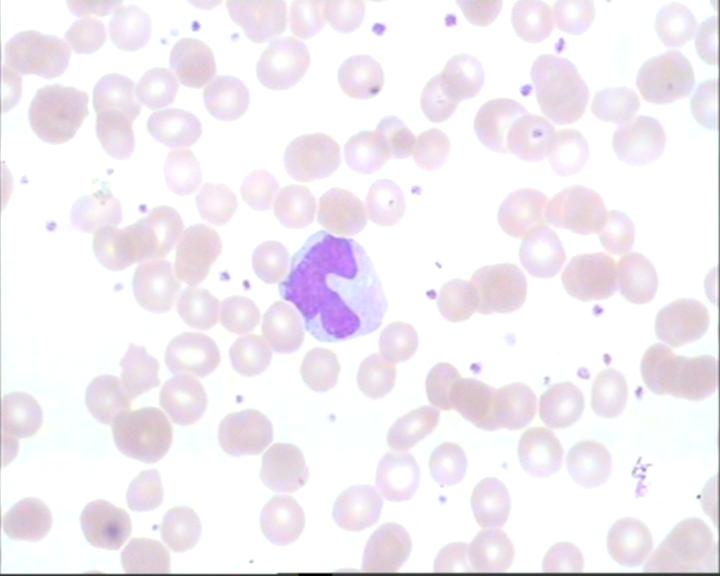mono: (279, 222, 394, 345)
